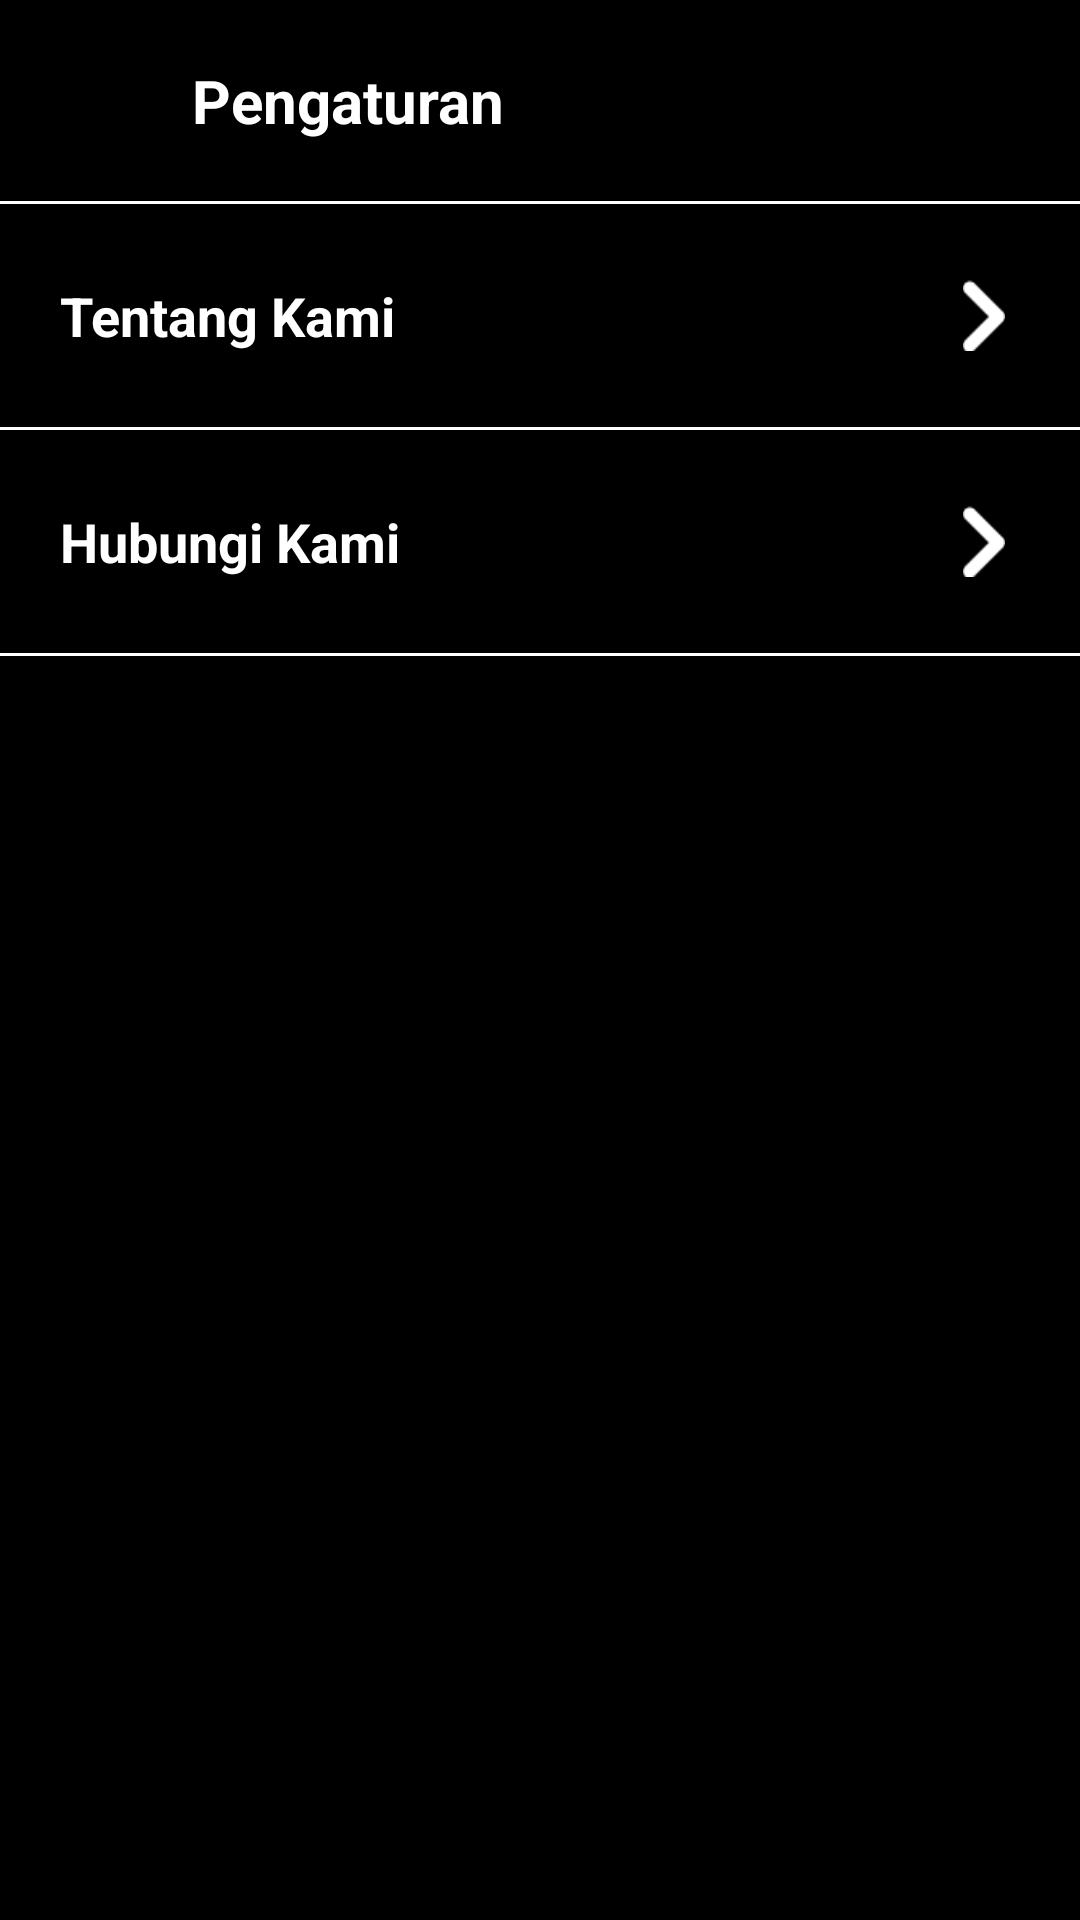

Where icons sit on this 1080 × 1920 app screen, as rect(x1, y1, x2, y2):
next: rect(963, 280, 1005, 351), rect(963, 506, 1005, 577)
